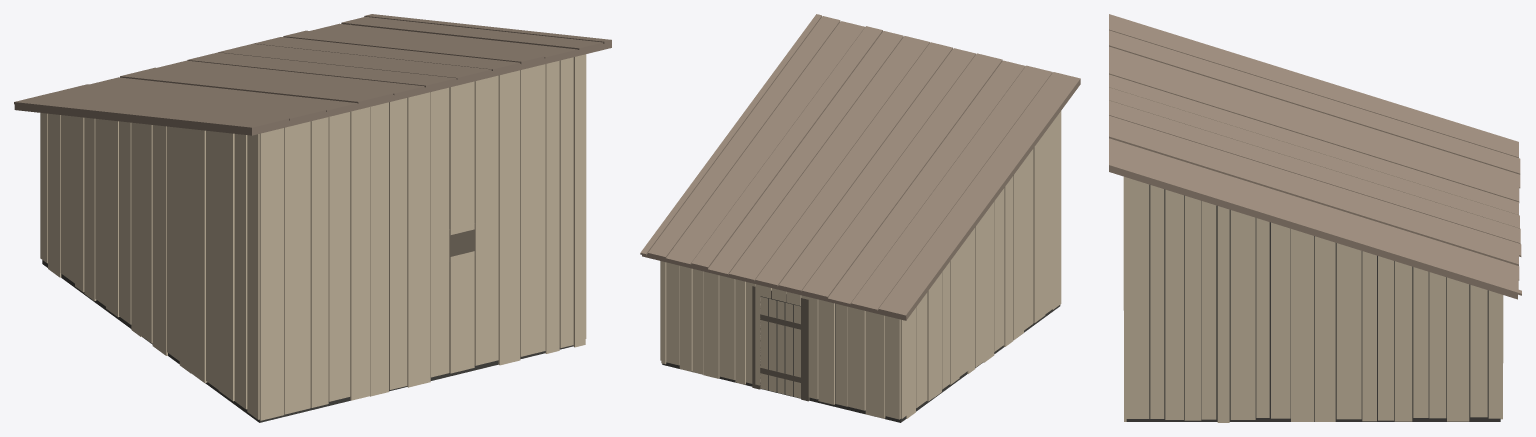
The model's file is recon_1835_blk_school_section_tier_94_d2_01__inferred_1835.glb.
3 views of the same model, side by side, from view 1: azimuth 30°, elevation 25°; view 2: azimuth 150°, elevation 25°; view 3: azimuth 270°, elevation 25° (orthographic). The views are drawn at different scales.
Parts seen in each view (by area): view 1: recon_1835_blk_school_section_tier_94_d2_01__inferred_1835; view 2: recon_1835_blk_school_section_tier_94_d2_01__inferred_1835; view 3: recon_1835_blk_school_section_tier_94_d2_01__inferred_1835.
Boxes of the visible parts, <box> form: recon_1835_blk_school_section_tier_94_d2_01__inferred_1835: <box>14,14,611,422</box>; recon_1835_blk_school_section_tier_94_d2_01__inferred_1835: <box>640,14,1080,422</box>; recon_1835_blk_school_section_tier_94_d2_01__inferred_1835: <box>1109,14,1521,422</box>.
Size of the model in its own units: 5.55 by 4.53 by 6.41.
